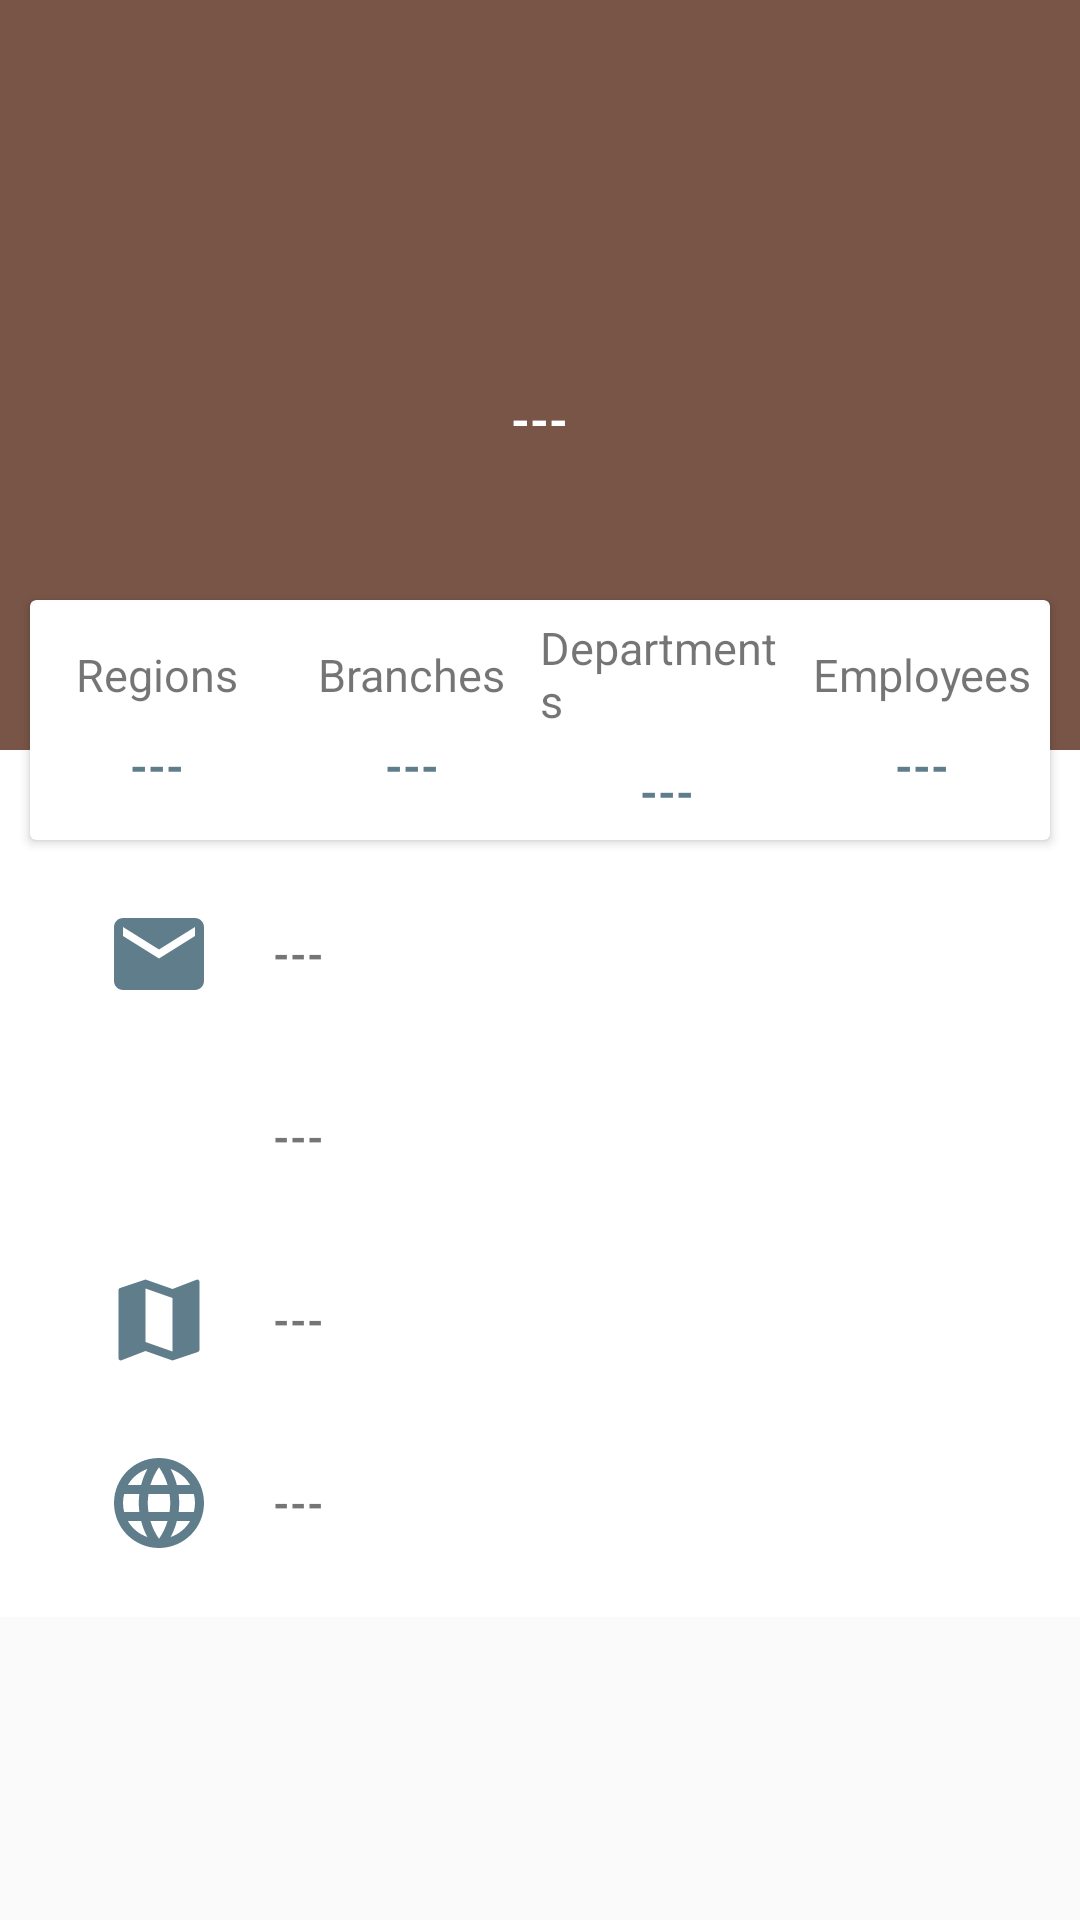

Icon click points for this 1080px×1920px phone screenshot, format (x,y):
email: (159,954)
map: (159,1320)
website: (159,1503)
